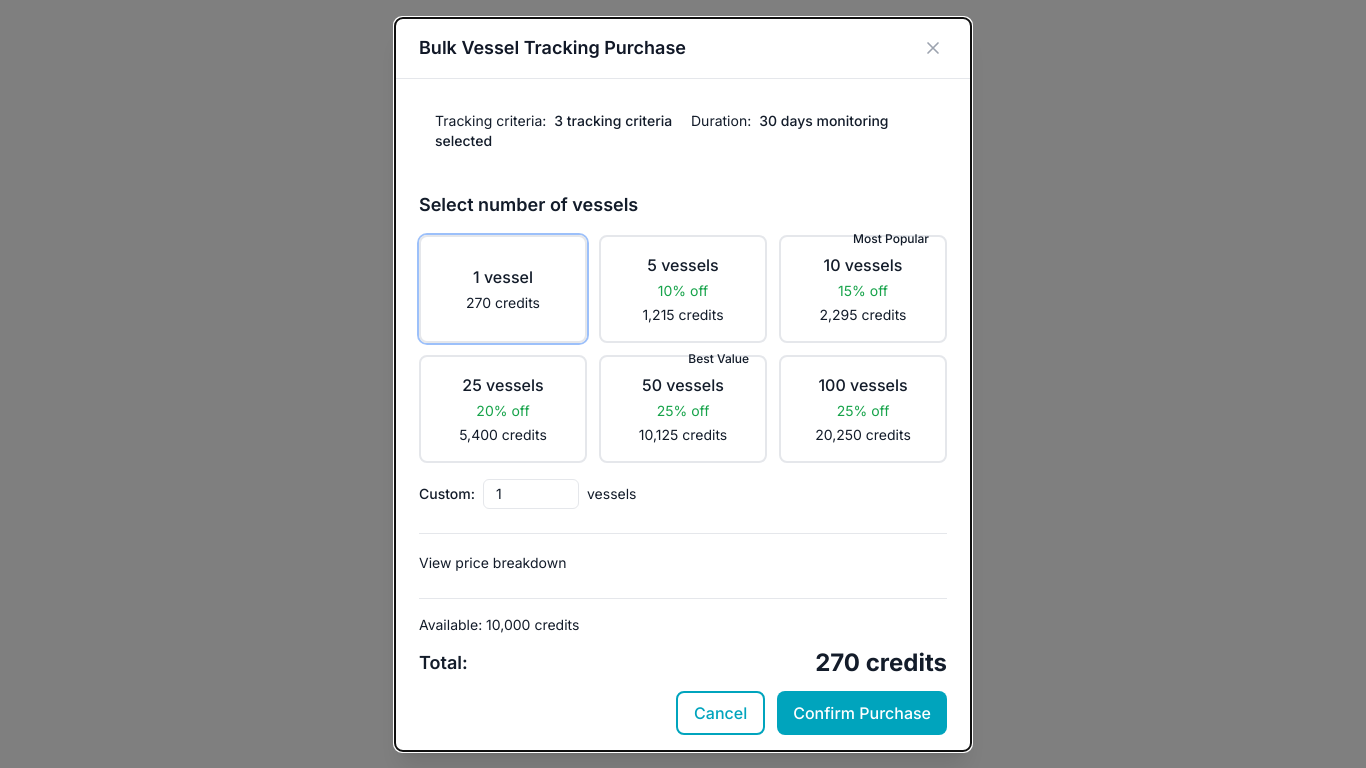
Scenario: Bulk Purchase Integration › allows custom vessel count input
Note: Enter custom vessel count
Replace the text in the number field named "custom vessel count" with "15" at (531, 494), box [483, 478, 579, 508]
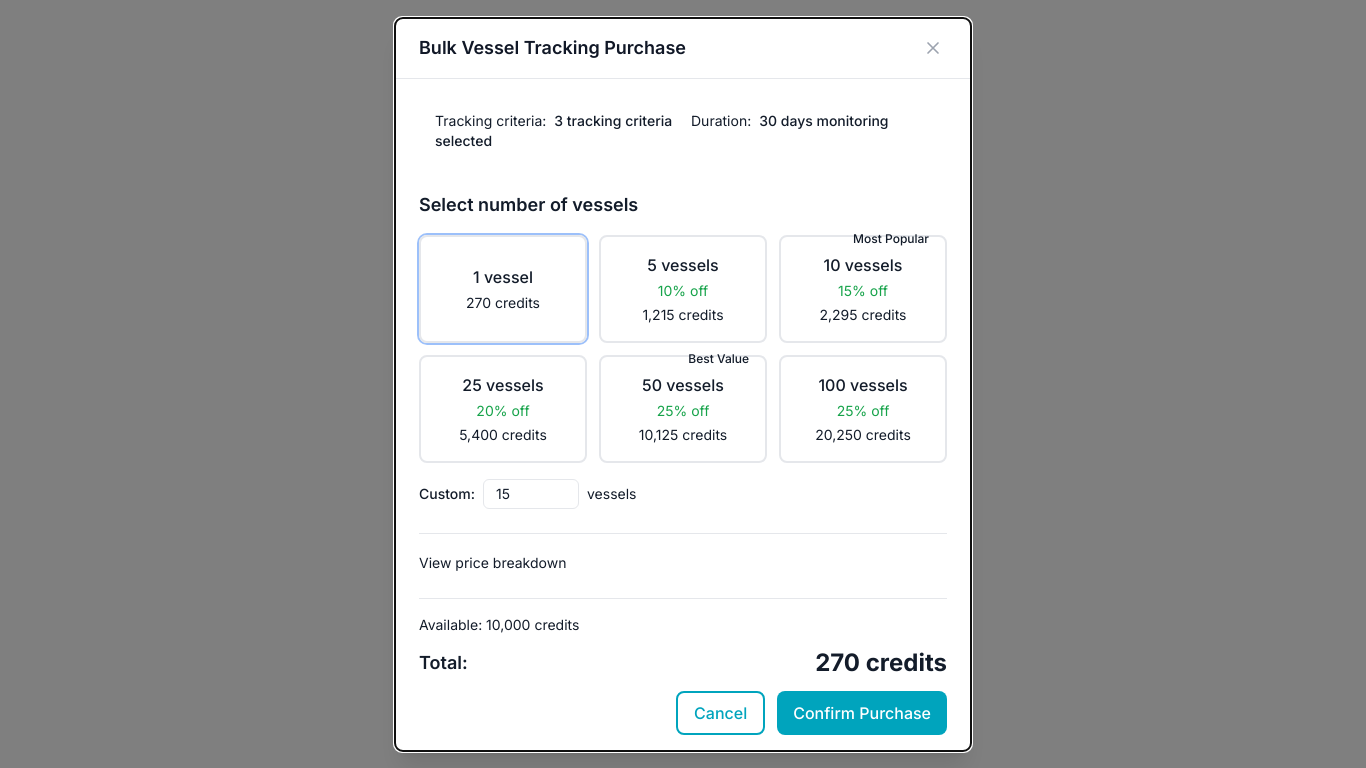
Leave the number field named "custom vessel count", box [483, 478, 579, 508]
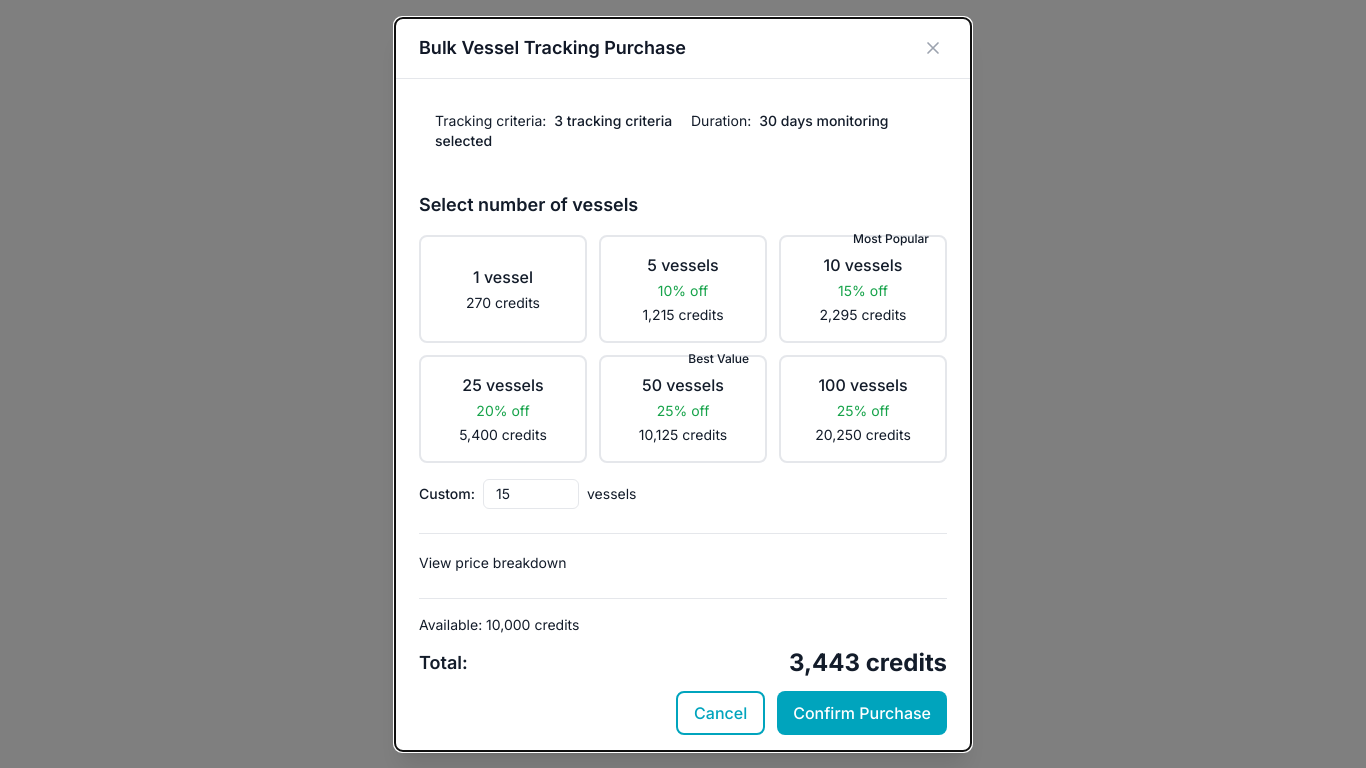
Expected: the text "3,443 credits" is shown, [789, 646, 947, 678]
